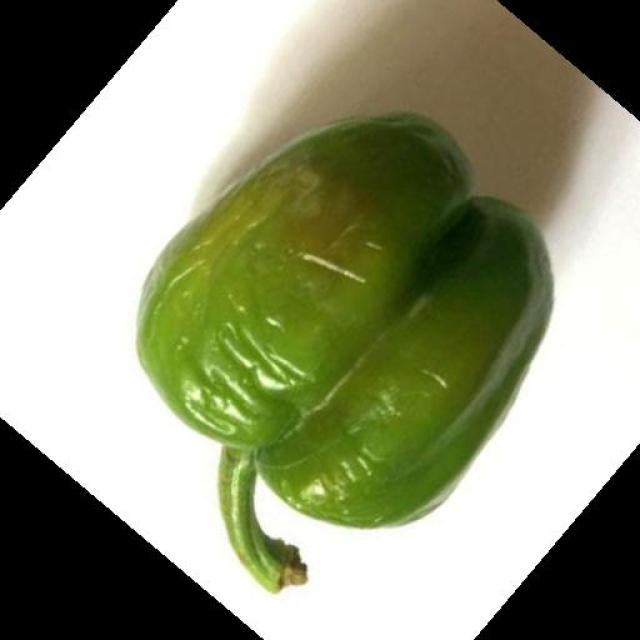Stale_Capsicum: (132, 90, 526, 500)
